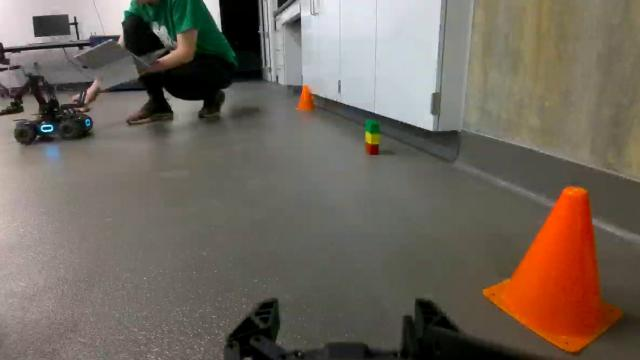lego: (359, 113, 386, 162)
